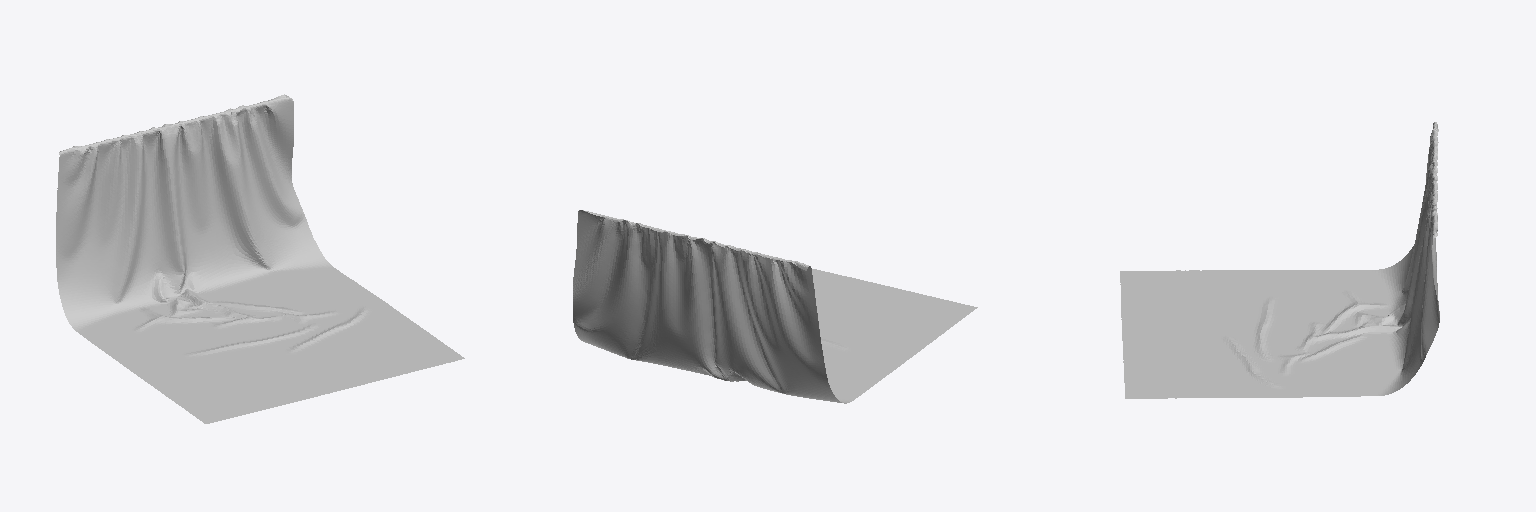
File: clothbackground.obj
3 renders of one model, left to right at view 1: azimuth 30°, elevation 25°; view 2: azimuth 150°, elevation 25°; view 3: azimuth 270°, elevation 25°, orthographic.
Visible parts, largest first — view 1: Cloth_Backdrop_01; view 2: Cloth_Backdrop_01; view 3: Cloth_Backdrop_01.
Boxes of the visible parts, box(x1,y1,x2,y2) form: Cloth_Backdrop_01: box(56, 94, 464, 423); Cloth_Backdrop_01: box(573, 210, 977, 403); Cloth_Backdrop_01: box(1120, 122, 1439, 398).
Size of the model in its own units: 1.8 by 1.02 by 1.89.